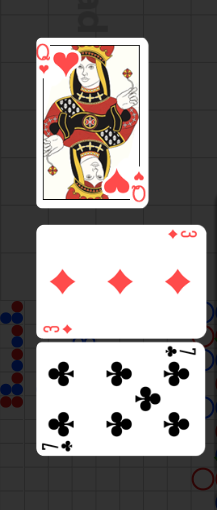3D: (166, 228, 198, 240)
7C: (163, 345, 198, 359)
9H: (36, 42, 52, 75)
